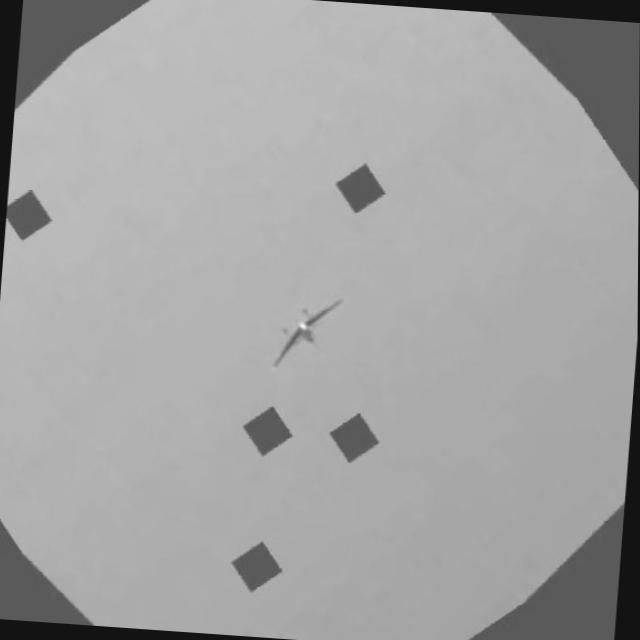aeroplane: (247, 274, 364, 382)
